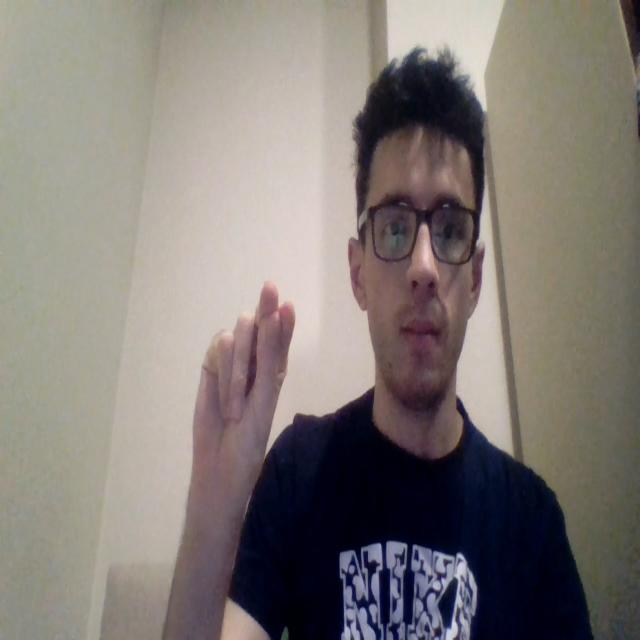no: (187, 277, 300, 538)
